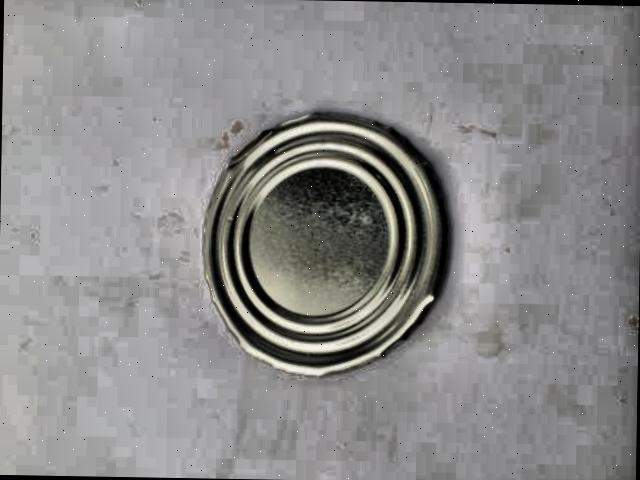Almennt: (177, 86, 453, 386)
